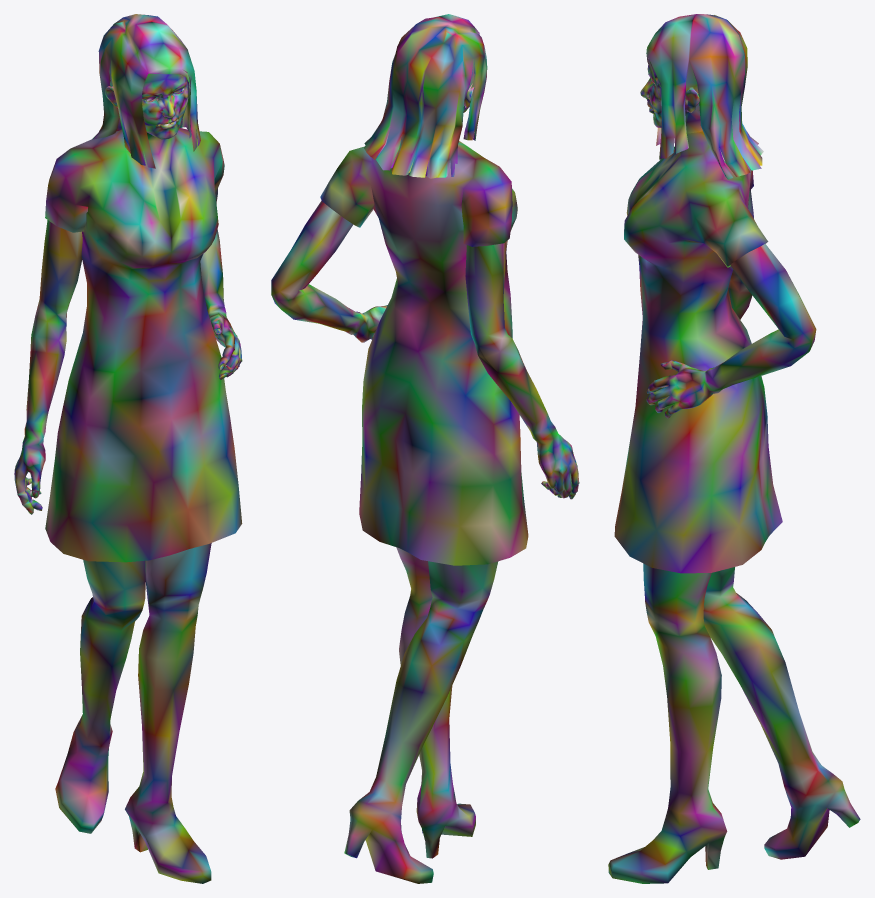
File: female02_vertex_colors.obj
3 views of the same model, side by side, from view 1: azimuth 30°, elevation 25°; view 2: azimuth 150°, elevation 25°; view 3: azimuth 270°, elevation 25° (orthographic).
Visible parts, largest first — view 1: mesh1.002_mesh1-geometry, mesh3.002_mesh3-geometry, mesh5.002_mesh5-geometry, mesh6.002_mesh6-geometry, mesh4.002_mesh4-geometry, mesh2.002_mesh2-geometry; view 2: mesh1.002_mesh1-geometry, mesh5.002_mesh5-geometry, mesh6.002_mesh6-geometry, mesh4.002_mesh4-geometry, mesh3.002_mesh3-geometry, mesh2.002_mesh2-geometry; view 3: mesh1.002_mesh1-geometry, mesh3.002_mesh3-geometry, mesh5.002_mesh5-geometry, mesh6.002_mesh6-geometry, mesh2.002_mesh2-geometry, mesh4.002_mesh4-geometry.
Part boxes in pixels (x1,y1,x2,y2): mesh1.002_mesh1-geometry: (45, 69, 242, 562); mesh3.002_mesh3-geometry: (125, 543, 211, 883); mesh5.002_mesh5-geometry: (55, 559, 145, 833); mesh6.002_mesh6-geometry: (92, 14, 200, 168); mesh4.002_mesh4-geometry: (14, 220, 82, 514); mesh2.002_mesh2-geometry: (200, 188, 242, 379); mesh1.002_mesh1-geometry: (320, 83, 528, 565); mesh5.002_mesh5-geometry: (344, 561, 498, 883); mesh6.002_mesh6-geometry: (364, 14, 487, 178); mesh4.002_mesh4-geometry: (465, 242, 579, 499); mesh3.002_mesh3-geometry: (396, 547, 475, 858); mesh2.002_mesh2-geometry: (271, 201, 387, 342); mesh1.002_mesh1-geometry: (614, 59, 782, 573); mesh3.002_mesh3-geometry: (608, 563, 727, 883); mesh5.002_mesh5-geometry: (703, 567, 860, 859); mesh6.002_mesh6-geometry: (646, 14, 763, 179); mesh2.002_mesh2-geometry: (646, 244, 816, 418); mesh4.002_mesh4-geometry: (728, 190, 753, 319).
Bounding box in the file's own units: 53.04 × 168 × 45.25.
